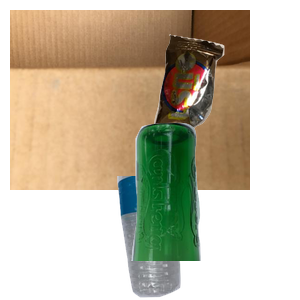cardboard: (10, 10, 250, 190)
glass: (129, 120, 300, 300)
plastic: (115, 176, 288, 300)
trash: (150, 32, 300, 172)
